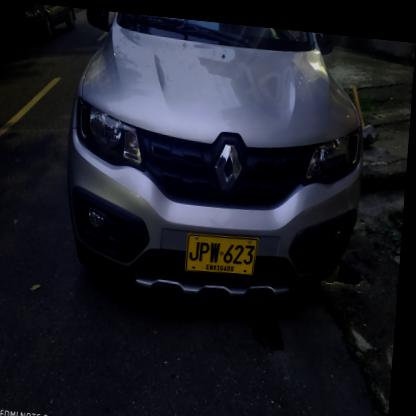placa: (185, 220, 266, 275)
